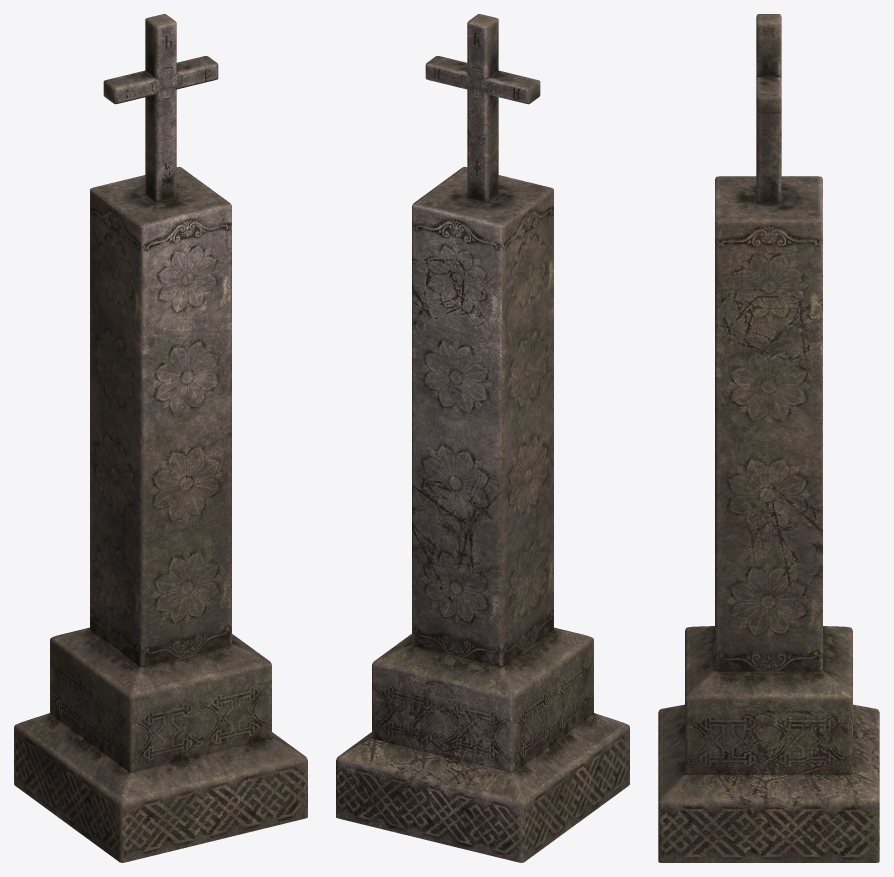
The model's file is SM_gravestone_51.fbx.
The picture shows the model from 3 angles, left to right: view 1: azimuth 30°, elevation 25°; view 2: azimuth 150°, elevation 25°; view 3: azimuth 270°, elevation 25°; orthographic projection. The views are drawn at different scales.
Parts seen in each view (by area): view 1: SM_gravestone_051; view 2: SM_gravestone_051; view 3: SM_gravestone_051.
Part boxes in pixels (bbox=[...]): SM_gravestone_051: bbox=[14, 14, 307, 862]; SM_gravestone_051: bbox=[336, 14, 629, 862]; SM_gravestone_051: bbox=[658, 14, 879, 862].
Size of the model in its own units: 58.99 by 235 by 58.99.
